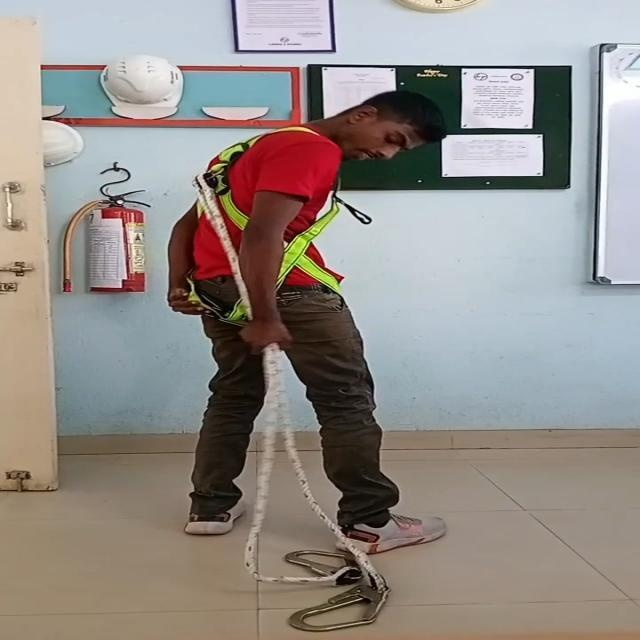Arnes_seguridad: (164, 125, 364, 333)
